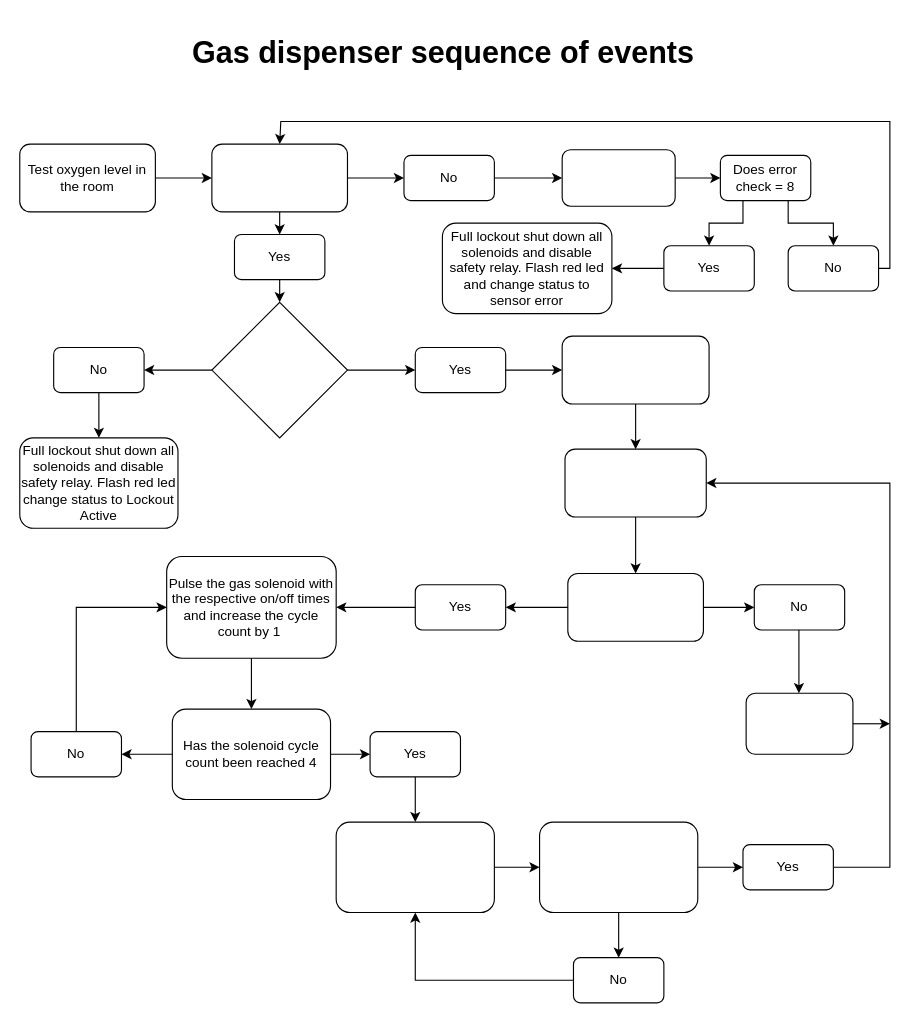
The diagram is 919 pixels wide and 1023 high, and some of its shapes have lost their labels. The box of each missing label's shape, as (x1, y1, x2, y2) in pixels:
Activate safety relay to allow dosing: (561, 335, 709, 404)
Does the sensor return a value greater than 0.0: (211, 143, 347, 212)
Get bed oxygen level: (564, 448, 706, 517)
Hold off times elapsed: (538, 821, 698, 912)
Increase error check by 1: (561, 149, 675, 206)
Is oxygen level greater than the target?: (567, 572, 703, 641)
Is oxygen level within safe levels: (211, 301, 347, 438)
Turn off solenoid and wait for the pause period to elapse: (335, 821, 494, 912)
Turn off solenoid relay: (745, 692, 853, 754)
